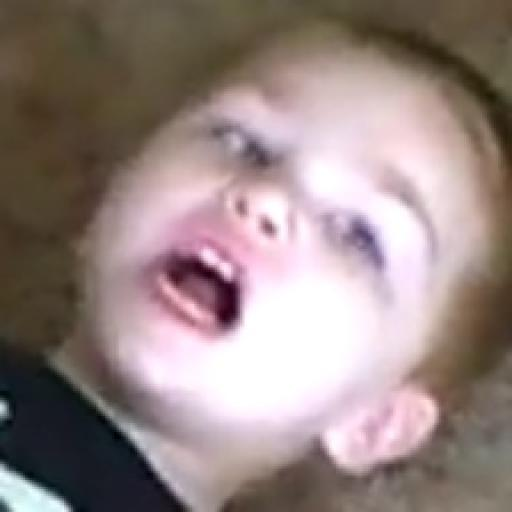Autism: (49, 23, 491, 465)
